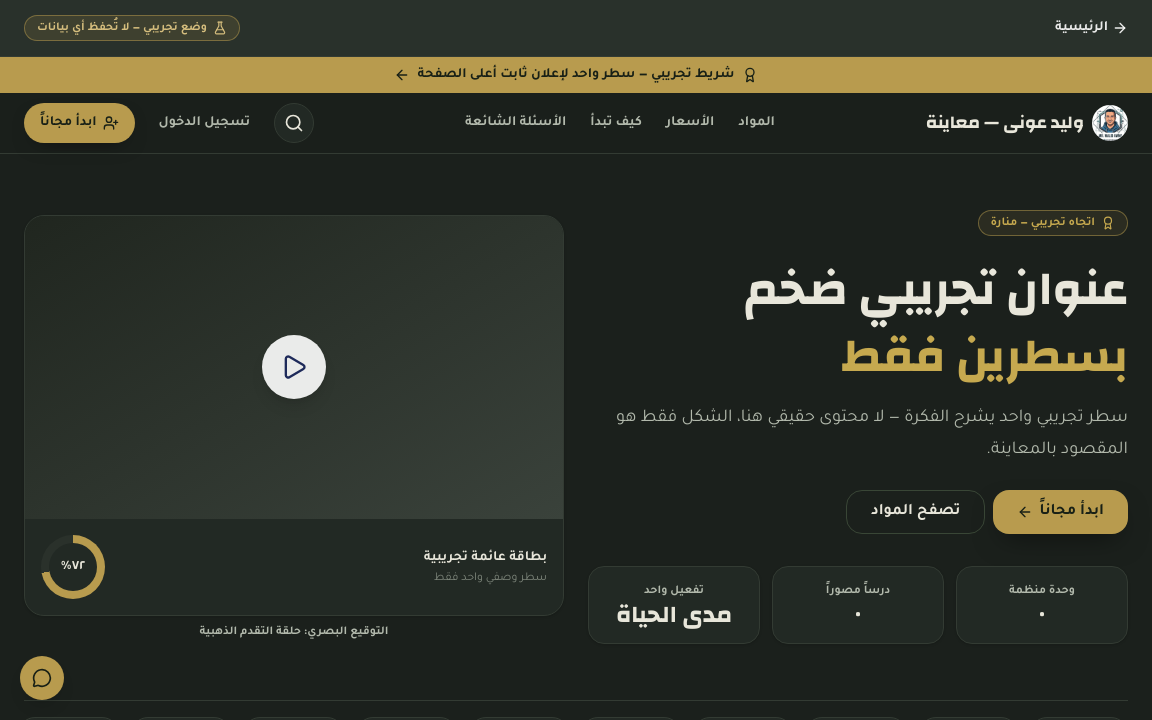
LabsRedesignPage › opens and closes the demo modal
Click the button with test id "redesign-demo-open": (294, 367) x1=25 y1=216 x2=563 y2=518
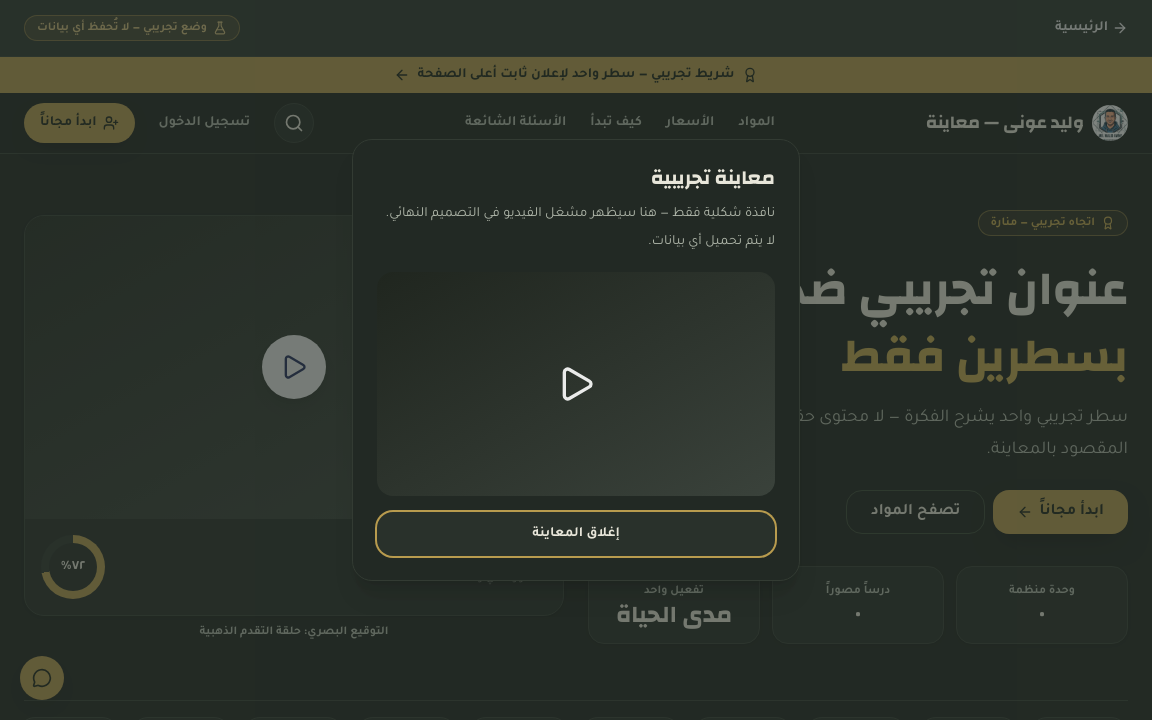
Check: the dialog with test id "redesign-demo-modal" is shown
Click the button with test id "redesign-demo-close": (576, 534) x1=377 y1=512 x2=775 y2=556
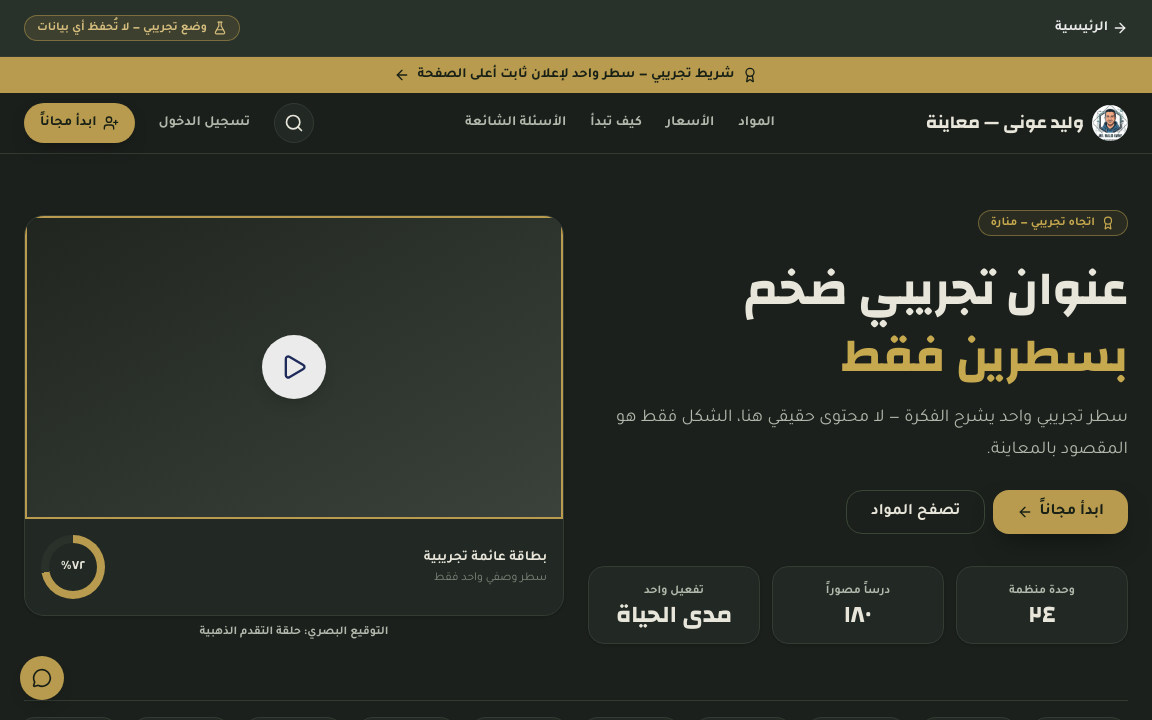
Check: the dialog with test id "redesign-demo-modal" is gone
